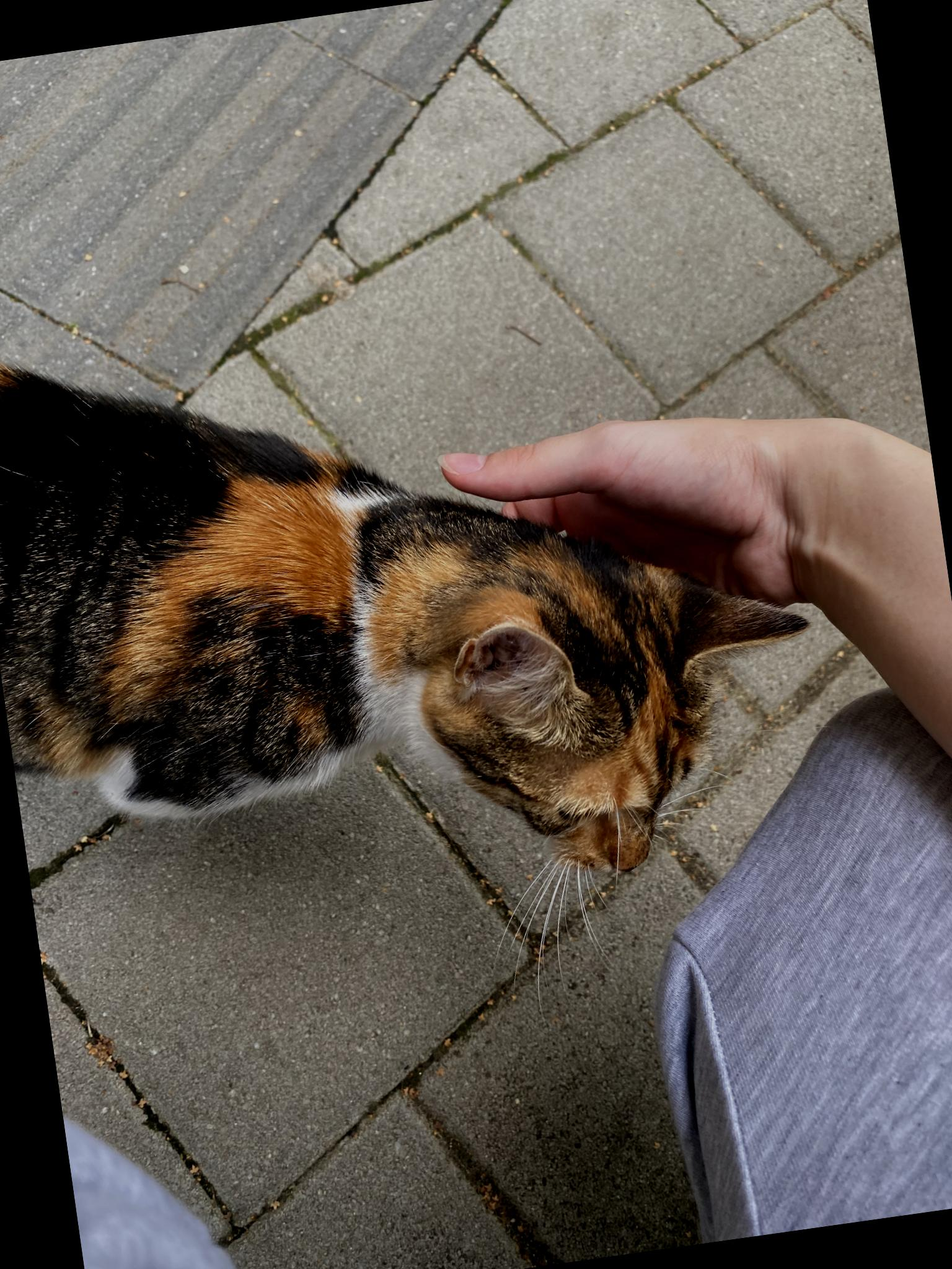macka: (0, 232, 842, 968)
